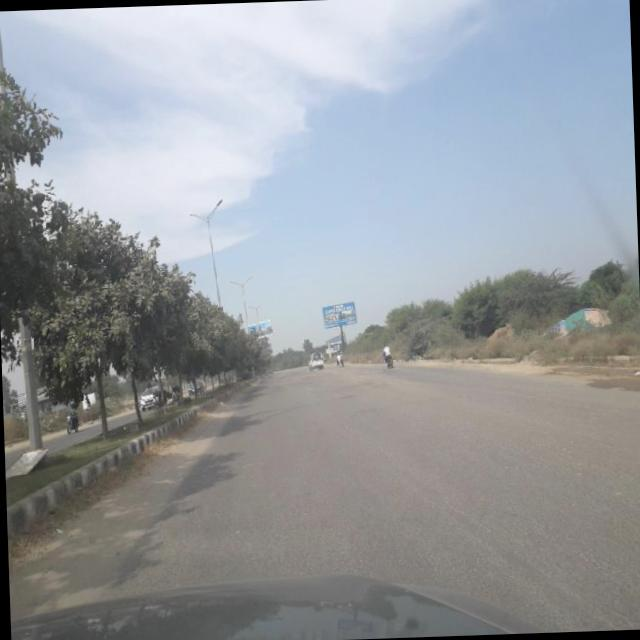crack: (117, 388, 640, 627)
